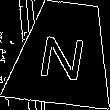N_N: (36, 26, 91, 81)
